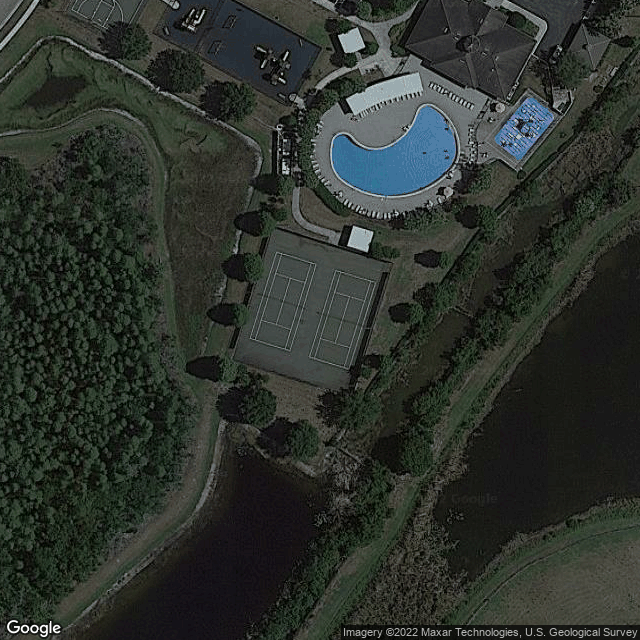Court: (247, 249, 318, 354), (307, 268, 377, 372)
